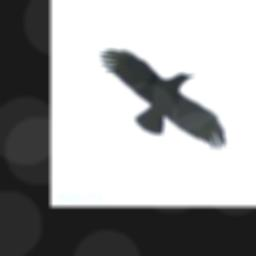Crow: (100, 49, 227, 149)
